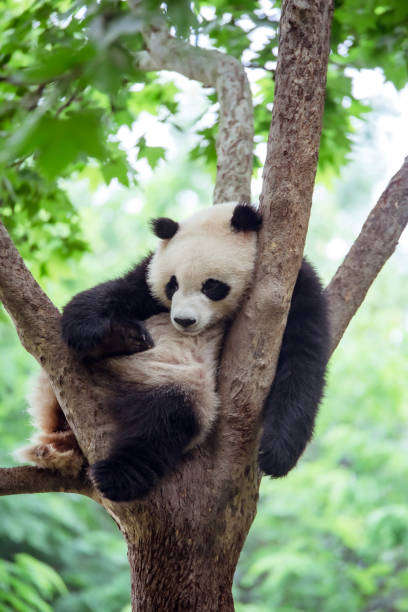panda: (126, 184, 341, 372)
